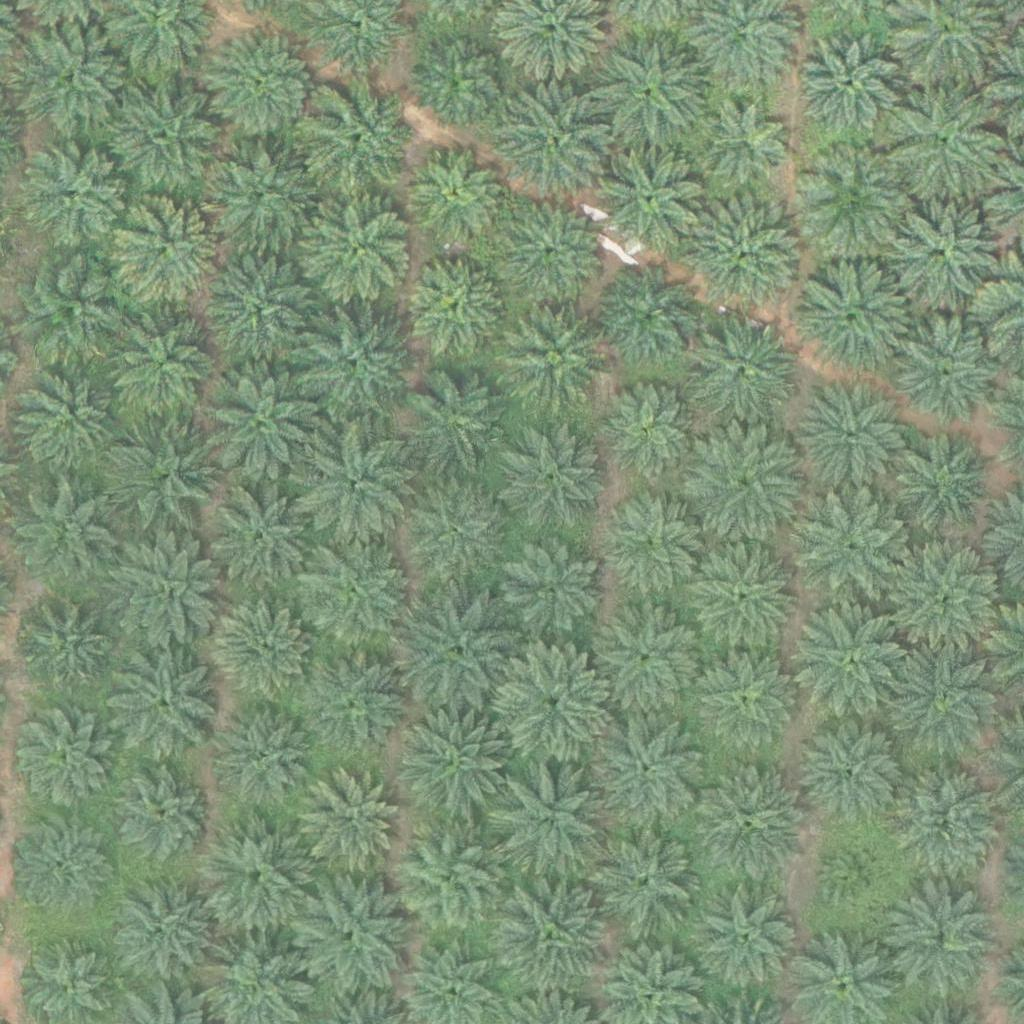Kelapa_Sawit: (206, 28, 319, 142), (304, 81, 417, 195), (301, 192, 414, 306), (890, 763, 1003, 877), (796, 604, 909, 718), (402, 364, 515, 478), (391, 820, 504, 934), (496, 878, 609, 992), (14, 259, 127, 372), (202, 141, 315, 254), (594, 33, 707, 146), (595, 138, 708, 251), (689, 198, 802, 311), (799, 257, 912, 370), (894, 544, 1007, 657), (888, 639, 1001, 752), (795, 379, 908, 492), (799, 495, 912, 608), (686, 314, 799, 427), (691, 428, 804, 541), (498, 647, 611, 760), (495, 759, 608, 872), (399, 477, 512, 590), (404, 596, 517, 709), (397, 708, 510, 821), (299, 308, 412, 421), (301, 430, 414, 543), (106, 532, 219, 645), (106, 648, 219, 761), (104, 760, 217, 873), (105, 873, 218, 986), (884, 887, 997, 1000), (496, 299, 608, 413), (692, 542, 804, 656), (495, 423, 607, 537), (15, 21, 127, 134), (16, 139, 128, 252), (111, 80, 223, 193), (112, 195, 224, 308), (209, 248, 321, 361), (496, 87, 608, 200), (494, 197, 606, 310), (798, 143, 910, 256), (892, 85, 1004, 198), (890, 191, 1002, 304), (894, 315, 1006, 428), (694, 768, 806, 881), (593, 605, 705, 718), (597, 715, 709, 828), (302, 536, 414, 649), (300, 649, 412, 762), (207, 367, 319, 480), (204, 478, 316, 591), (107, 311, 219, 424), (110, 426, 222, 539), (197, 819, 309, 932), (299, 879, 411, 992), (591, 824, 703, 937), (413, 30, 513, 131), (597, 265, 697, 366), (697, 98, 797, 199), (797, 31, 897, 132), (899, 432, 999, 533), (303, 768, 403, 869), (211, 600, 311, 701), (216, 706, 316, 807), (14, 370, 114, 471), (11, 483, 111, 584), (13, 596, 113, 697), (699, 889, 799, 990), (411, 145, 511, 245), (407, 257, 507, 357), (804, 721, 904, 821), (697, 652, 797, 752), (598, 384, 698, 484), (603, 498, 703, 598), (506, 542, 606, 642), (14, 712, 114, 812), (14, 816, 114, 916), (825, 846, 887, 909)
